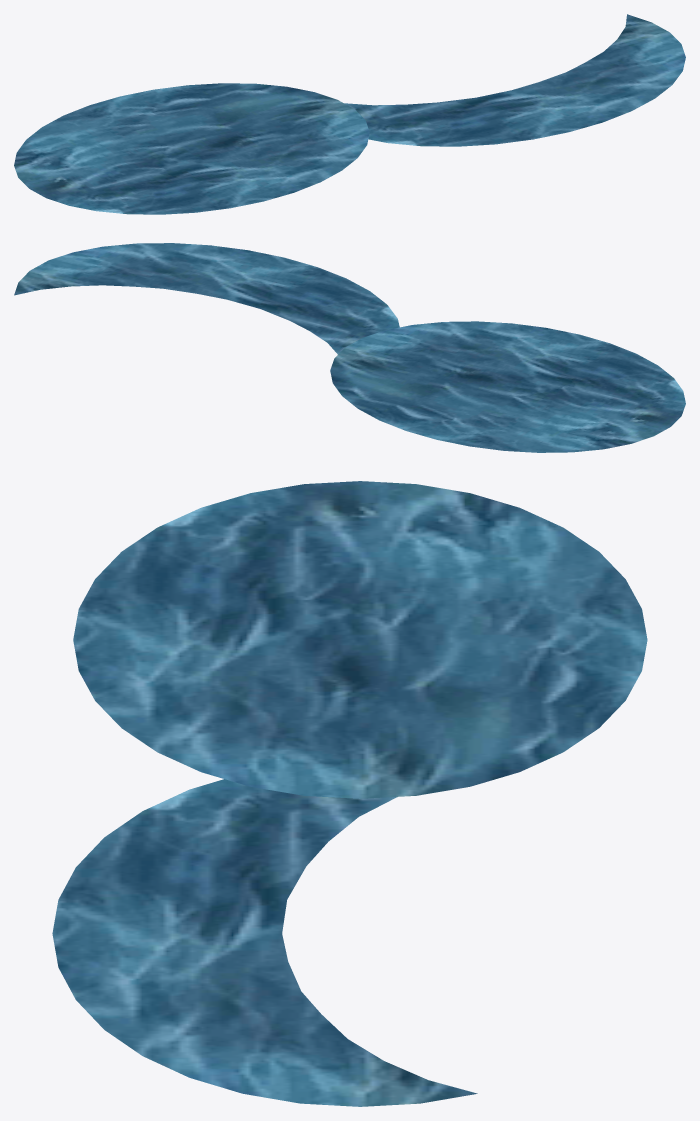
The model's file is agua.fbx.
3 renders of one model, top to bottom at view 1: azimuth 30°, elevation 25°; view 2: azimuth 150°, elevation 25°; view 3: azimuth 270°, elevation 25°, orthographic. The views are drawn at different scales.
Parts seen in each view (by area): view 1: AguadeAjolote.001; view 2: AguadeAjolote.001; view 3: AguadeAjolote.001.
Boxes of the visible parts, x1=… form: AguadeAjolote.001: x1=14, y1=14, x2=685, y2=214; AguadeAjolote.001: x1=14, y1=243, x2=685, y2=452; AguadeAjolote.001: x1=52, y1=481, x2=647, y2=1106.
Bounding box in the file's own units: 1751 × 0.3972 × 704.
